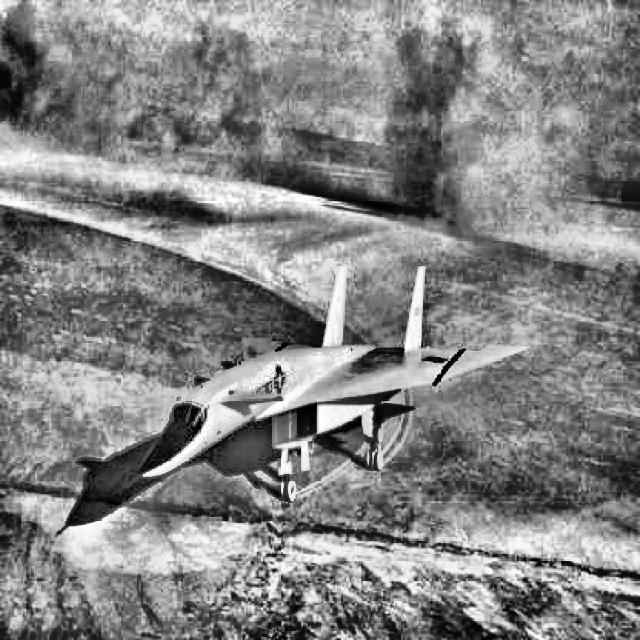XB70: (125, 266, 528, 503)
